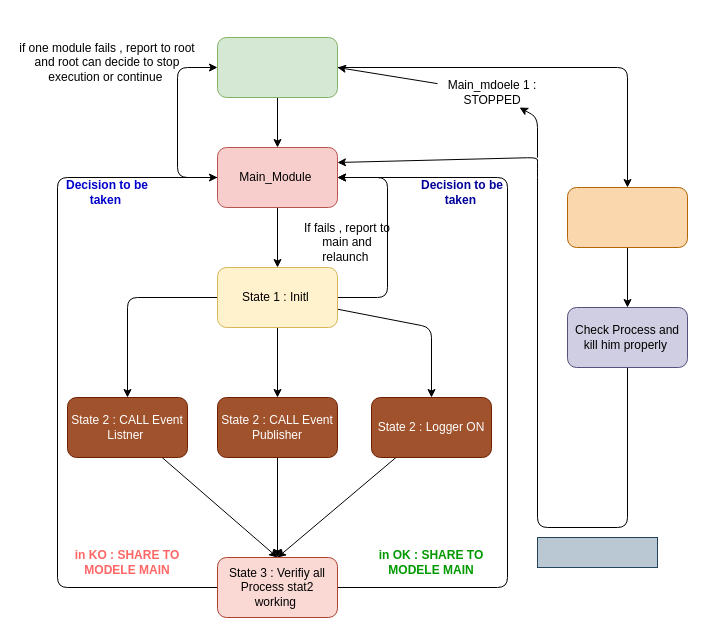
This 705x635 diagram has some shape labels left out. The centre of each missing label's shape, as x and y in pixels:
"Launched by Root Main" goes at [277,67].
"Stop Execution" goes at [627,217].
"Stop Main modele execution properly" goes at [597,552].
